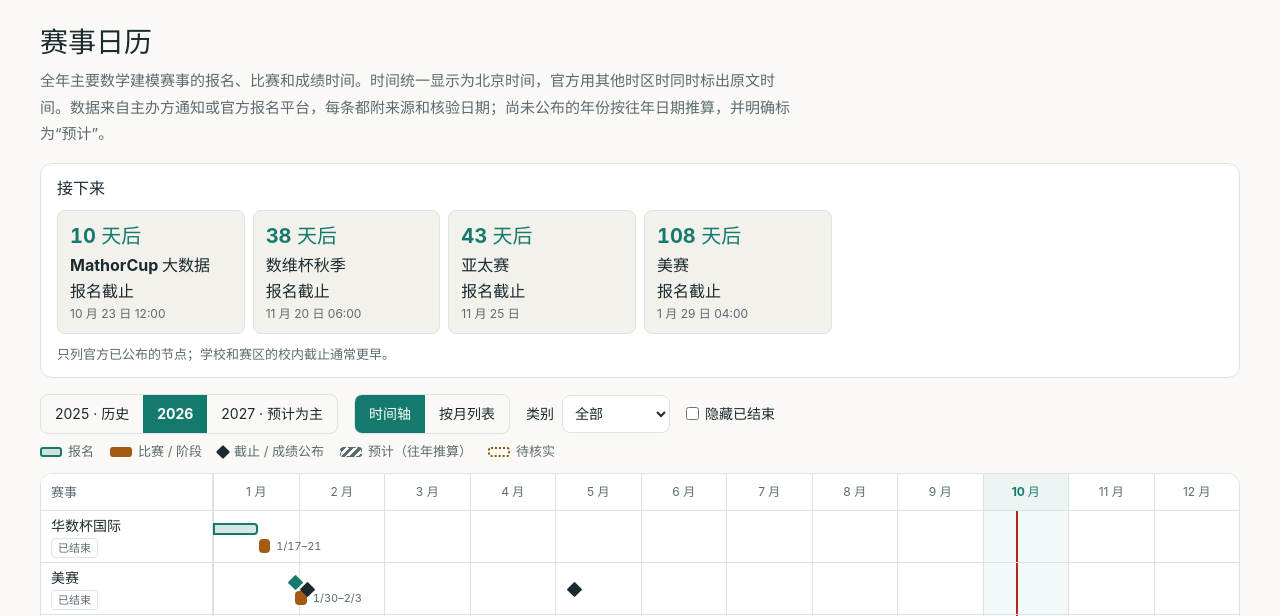
Test: 赛事日历 › 按月列表：报名和比赛是两条，跨年事件单独分组
Step 1. Click the radio button labelled "按月列表" → click(467, 414), box 439,405 -> 495,422
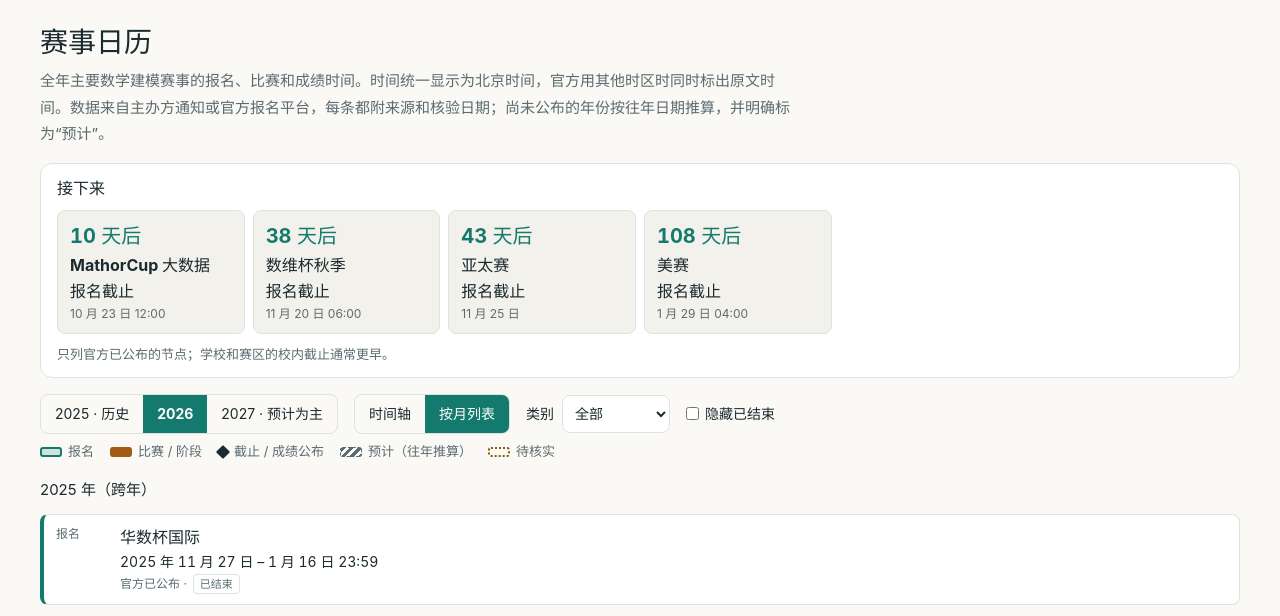
Expected: the element "2025 年" shows "华数杯国际", 40,514 -> 1240,605
